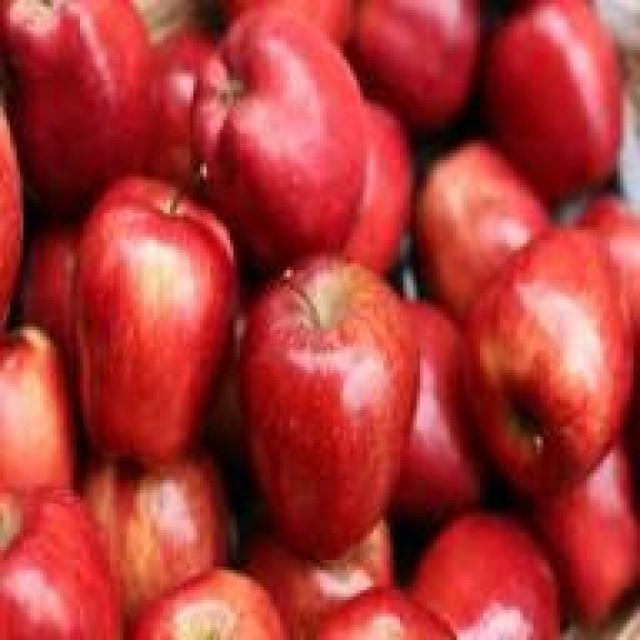apple: (240, 264, 407, 514), (67, 196, 233, 446), (174, 27, 354, 240), (463, 253, 620, 477), (77, 447, 240, 613), (490, 7, 627, 186), (430, 136, 540, 316), (413, 507, 560, 630), (10, 483, 123, 637), (130, 550, 283, 637)
